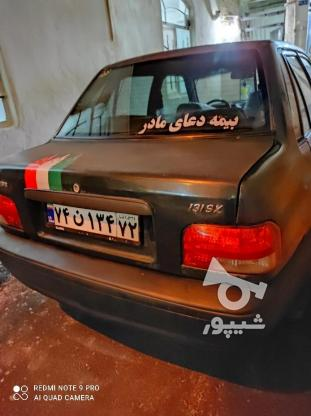car: (42, 199, 145, 245)
